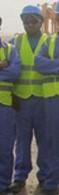hat: (13, 3, 50, 36), (56, 2, 59, 38)
vest: (16, 27, 47, 104), (42, 33, 59, 121), (1, 34, 15, 120)
